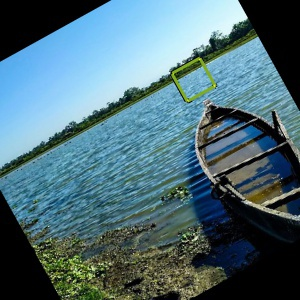square: (168, 55, 219, 104)
